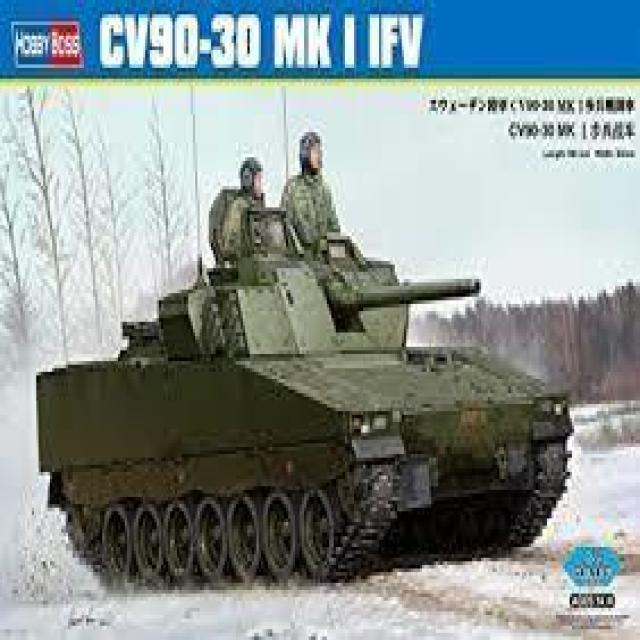Tanks: (14, 84, 568, 585)
